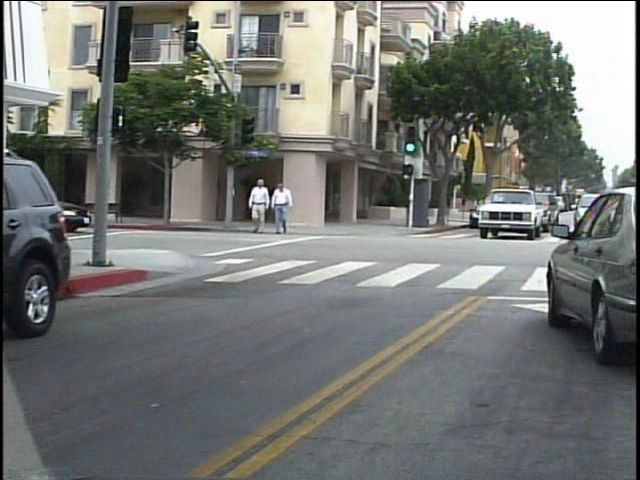person: (276, 177, 304, 239), (253, 176, 276, 239)
